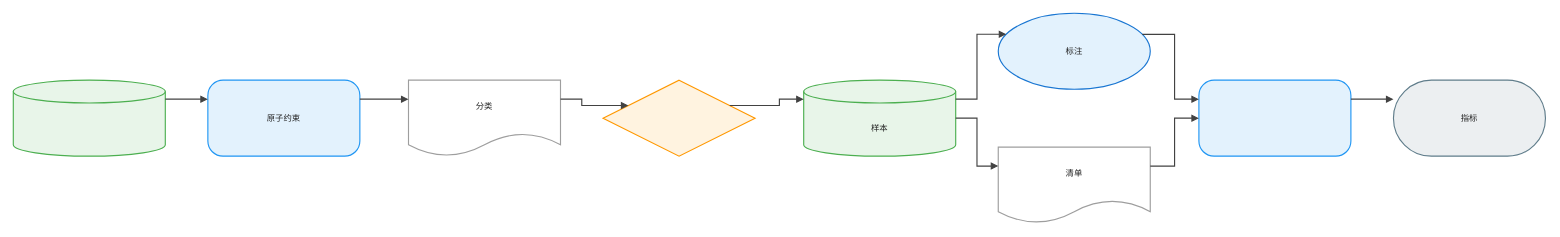
This 1560x237 diagram has some shape labels left out. Here are the shapes that lost their labels. From the top down, the centre of each, then its label:
the point at 89,117: 来源
the point at 678,117: 均衡
the point at 1274,117: 评判
